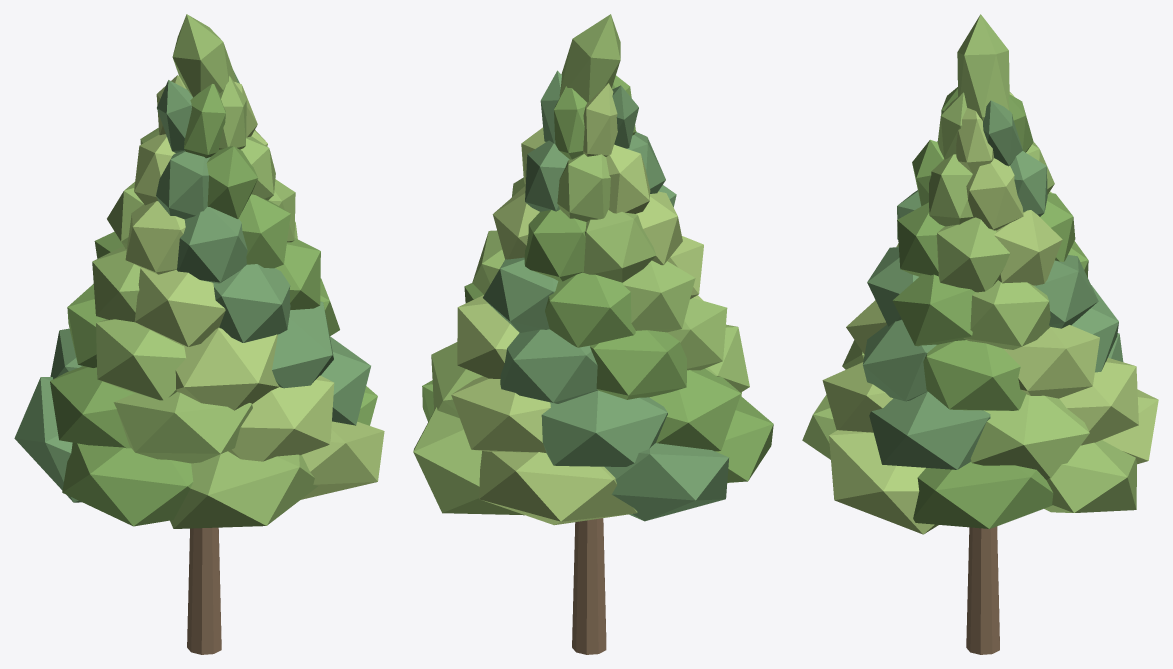
Rendered from SIMUS_Metasequoia.glb.
3 renders of one model, left to right at view 1: azimuth 30°, elevation 25°; view 2: azimuth 150°, elevation 25°; view 3: azimuth 270°, elevation 25°, orthographic. The views are drawn at different scales.
Parts seen in each view (by area): view 1: Metasequoia Leaf green 1, Metasequoia Leaf green 2, Metasequoia Leaf green 0, Metasequoia Leaf green 3, Metasequoia Warm bark; view 2: Metasequoia Leaf green 3, Metasequoia Leaf green 2, Metasequoia Leaf green 1, Metasequoia Leaf green 0, Metasequoia Warm bark; view 3: Metasequoia Leaf green 1, Metasequoia Leaf green 2, Metasequoia Leaf green 0, Metasequoia Leaf green 3, Metasequoia Warm bark.
Part boxes in pixels (box(x1,y1,x2,y2)): Metasequoia Leaf green 1: box(92, 14, 317, 528); Metasequoia Leaf green 2: box(125, 75, 384, 499); Metasequoia Leaf green 0: box(50, 84, 377, 526); Metasequoia Leaf green 3: box(14, 70, 370, 502); Metasequoia Warm bark: box(187, 527, 221, 654); Metasequoia Leaf green 3: box(483, 70, 728, 521); Metasequoia Leaf green 2: box(451, 83, 703, 525); Metasequoia Leaf green 1: box(413, 14, 749, 515); Metasequoia Leaf green 0: box(422, 75, 773, 482); Metasequoia Warm bark: box(572, 518, 606, 654); Metasequoia Leaf green 1: box(802, 14, 1136, 512); Metasequoia Leaf green 2: box(822, 92, 1158, 534); Metasequoia Leaf green 0: box(892, 87, 1088, 528); Metasequoia Leaf green 3: box(863, 100, 1123, 469); Metasequoia Warm bark: box(966, 526, 999, 654).
Bounding box in the file's own units: 4.08 × 7.91 × 4.09.
